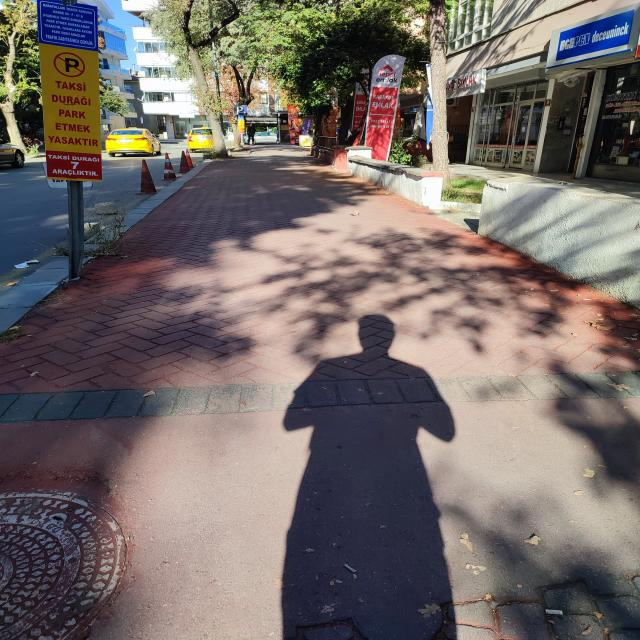sidewalk: (0, 145, 640, 640)
